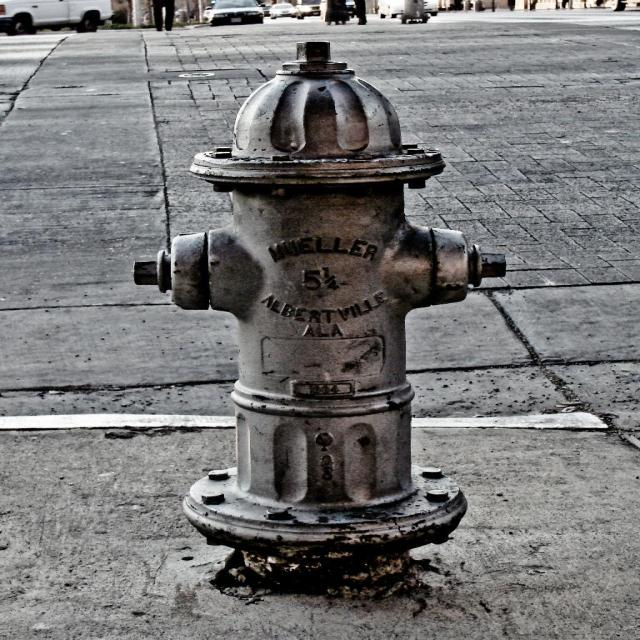fire_hydrant: (133, 39, 507, 592)
